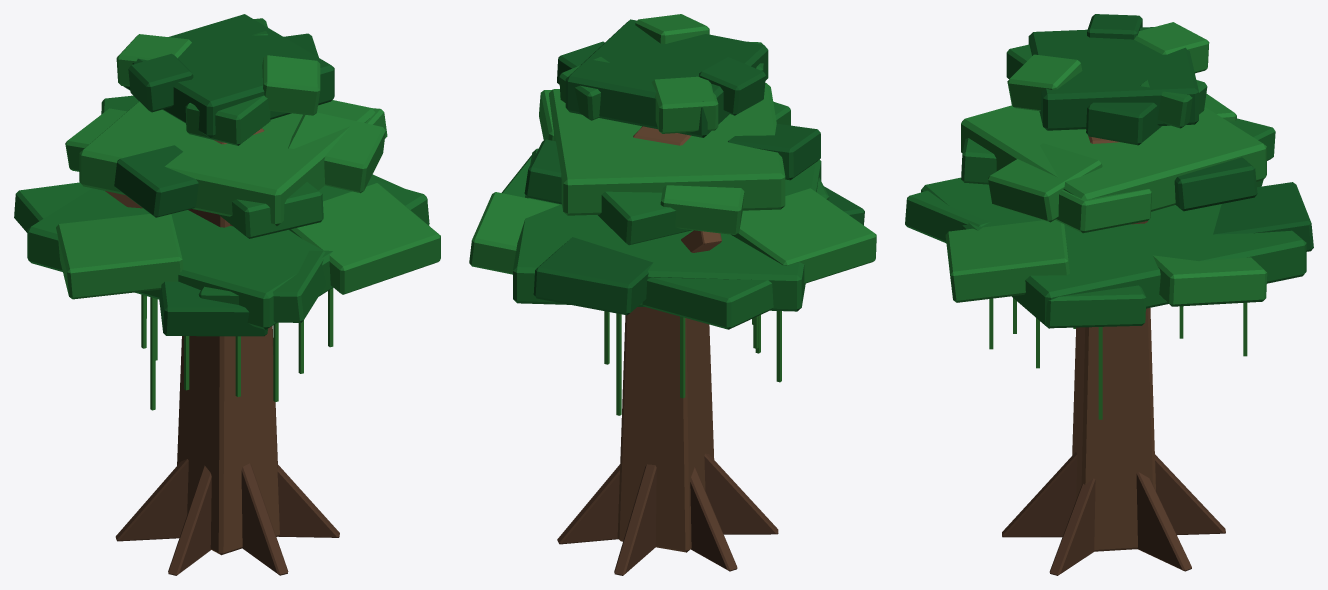
The model's file is jungle_tree.glb.
The picture shows the model from 3 angles, left to right: view 1: azimuth 30°, elevation 25°; view 2: azimuth 150°, elevation 25°; view 3: azimuth 270°, elevation 25°; orthographic projection.
Visible parts, largest first — view 1: Grass__227C32, Grass__18682A, Grass__125824, Wood__60422C, Wood__4E3424, Grass__28782C; view 2: Grass__227C32, Grass__125824, Grass__18682A, Wood__60422C, Wood__4E3424, Grass__28782C; view 3: Grass__227C32, Grass__18682A, Grass__125824, Wood__60422C, Wood__4E3424, Grass__28782C.
Boxes of the visible parts, bbox=[...] form: Grass__227C32: bbox=[56, 34, 440, 299]; Grass__18682A: bbox=[14, 18, 429, 329]; Grass__125824: bbox=[114, 14, 334, 336]; Wood__60422C: bbox=[105, 128, 279, 555]; Wood__4E3424: bbox=[115, 459, 339, 575]; Grass__28782C: bbox=[141, 288, 333, 410]; Grass__227C32: bbox=[469, 14, 876, 283]; Grass__125824: bbox=[524, 19, 864, 315]; Grass__18682A: bbox=[501, 41, 829, 329]; Wood__60422C: bbox=[617, 126, 721, 552]; Wood__4E3424: bbox=[557, 453, 778, 575]; Grass__28782C: bbox=[604, 311, 781, 415]; Grass__227C32: bbox=[945, 22, 1267, 306]; Grass__18682A: bbox=[905, 44, 1306, 328]; Grass__125824: bbox=[1028, 14, 1313, 251]; Wood__60422C: bbox=[1072, 129, 1155, 551]; Wood__4E3424: bbox=[1002, 452, 1225, 575]; Grass__28782C: bbox=[989, 298, 1247, 419].
Size of the model in its own units: 36.56 by 47.85 by 36.49.
